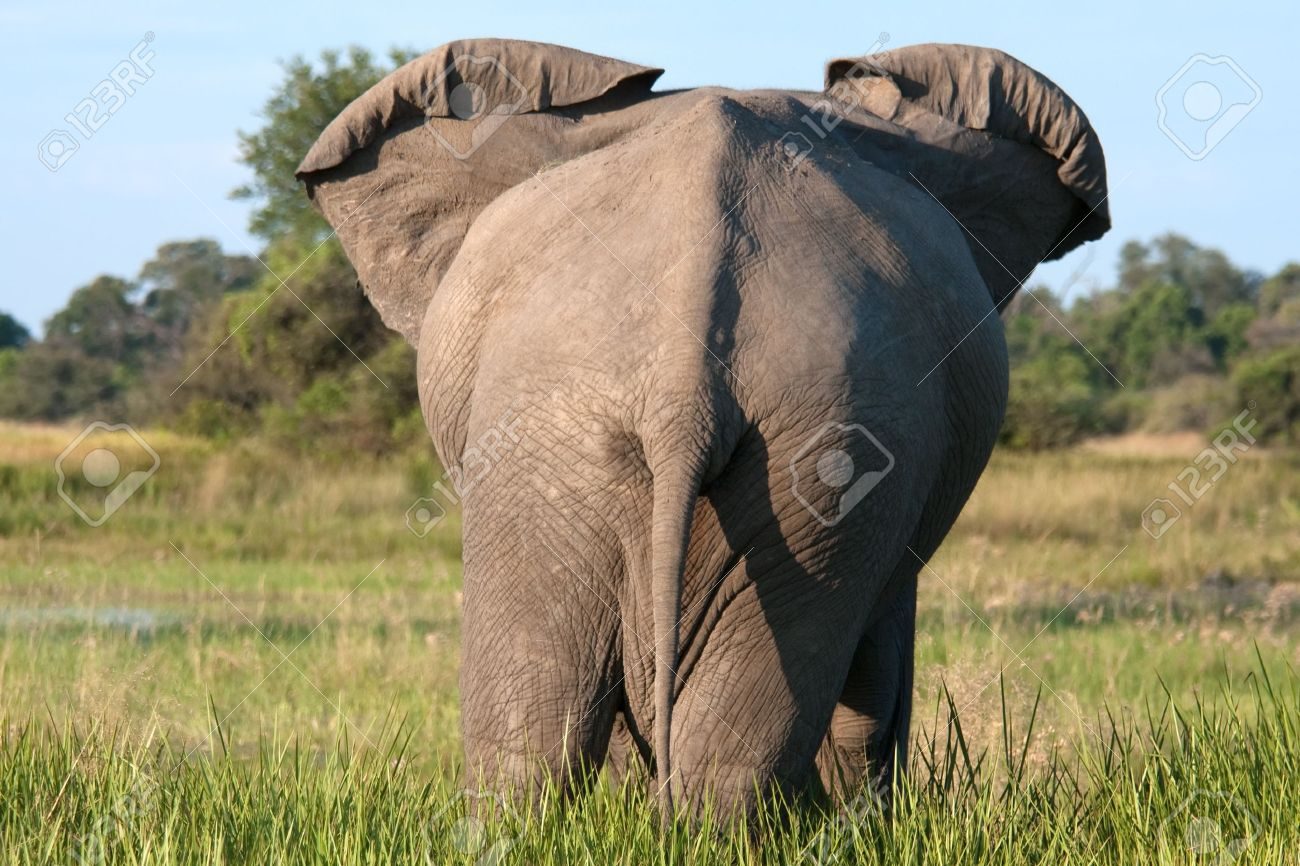elephant: (274, 65, 1098, 812)
